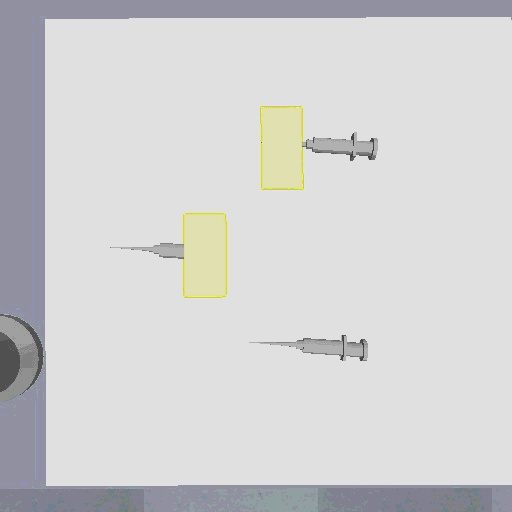jeringuilla: (242, 325, 376, 368), (302, 127, 389, 166), (105, 237, 184, 266)
